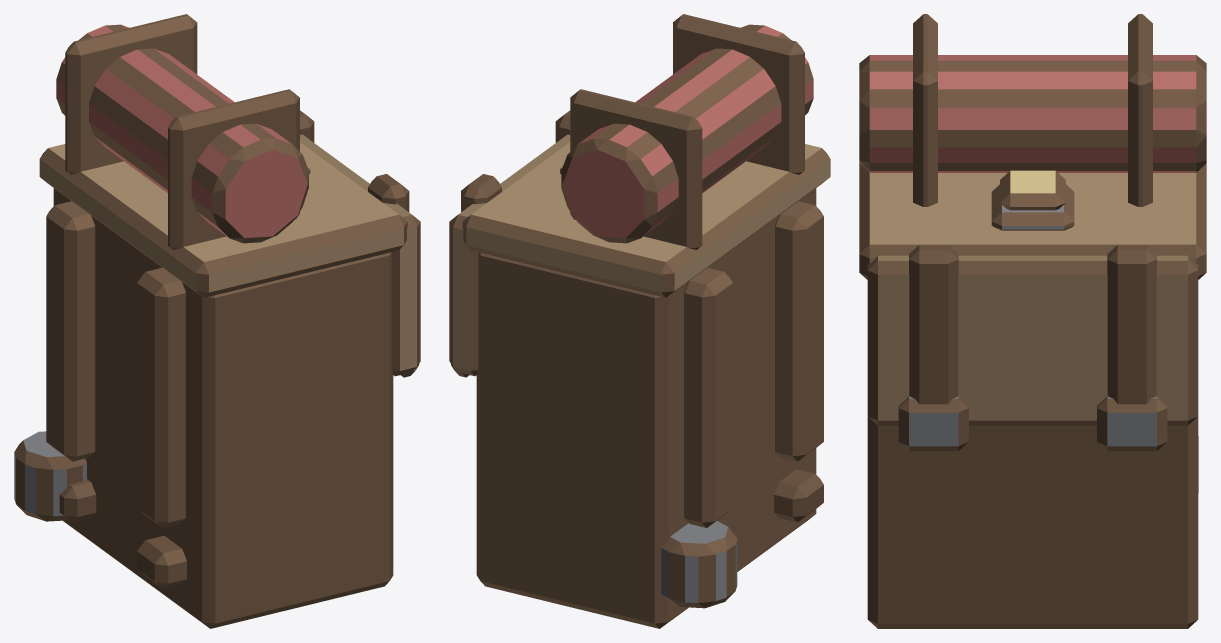
The model's file is SM_Kit_mochila.fbx.
3 views of the same model, side by side, from view 1: azimuth 30°, elevation 25°; view 2: azimuth 150°, elevation 25°; view 3: azimuth 270°, elevation 25° (orthographic). The views are drawn at different scales.
Visible parts, largest first — view 1: SM_Kit_mochila; view 2: SM_Kit_mochila; view 3: SM_Kit_mochila.
Boxes of the visible parts, x1=… form: SM_Kit_mochila: x1=14, y1=14, x2=420, y2=628; SM_Kit_mochila: x1=449, y1=14, x2=830, y2=628; SM_Kit_mochila: x1=859, y1=14, x2=1206, y2=628.
Size of what is drawn, in the model's own units: 40.97 by 69.5 by 42.
